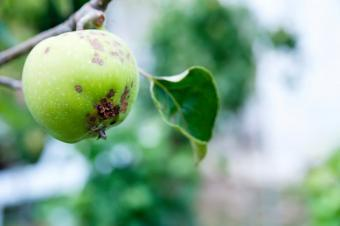apple: (20, 27, 140, 143)
